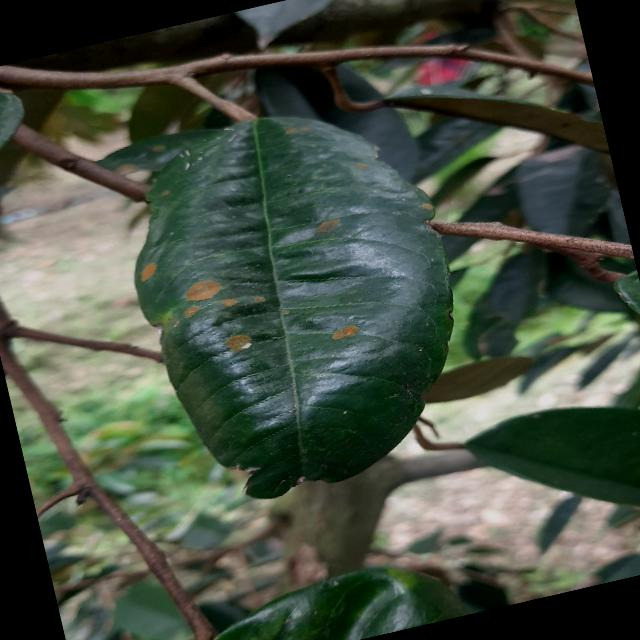Algal Leaf Spot: (96, 75, 492, 519)
